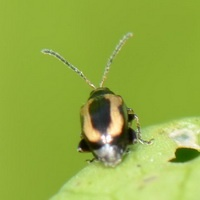insect: (41, 32, 150, 166)
